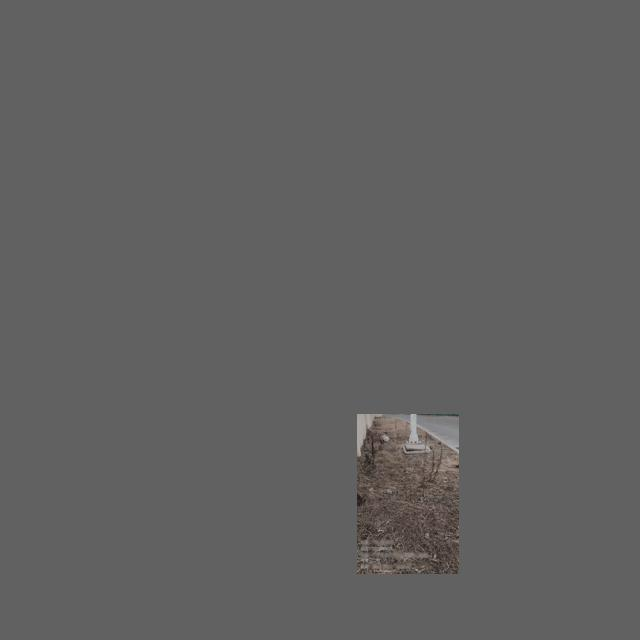uncovered: (402, 443, 431, 455)
